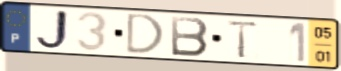1: (285, 21, 307, 65)
3: (75, 11, 112, 54)
B: (169, 14, 211, 59)
D: (124, 12, 167, 56)
J: (33, 8, 73, 52)
T: (225, 19, 262, 60)
